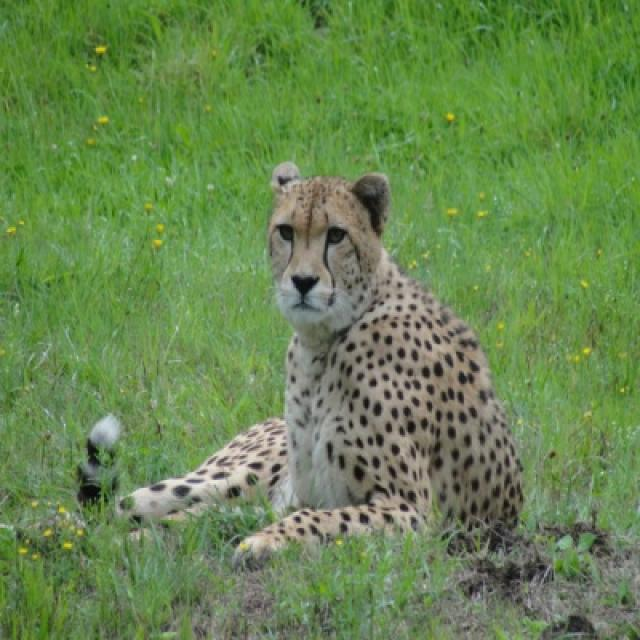Cheetah: (131, 162, 522, 558)
